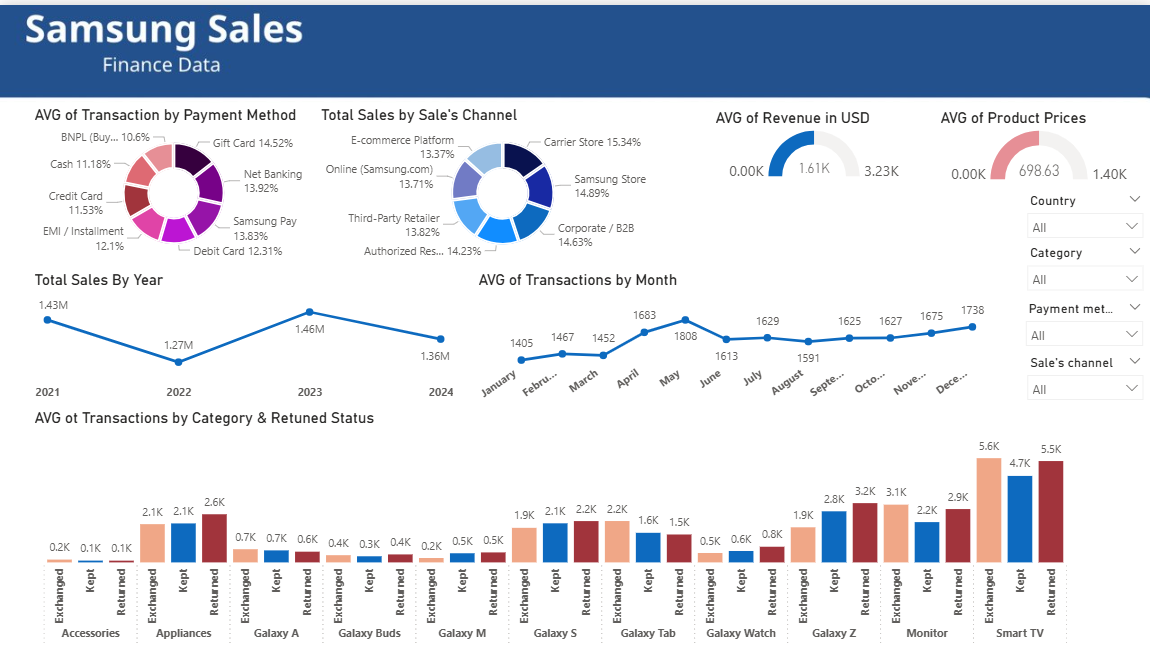

The page's visual inventory and layout, read from the dashboard file:
{"tool":"powerbi","page":{"name":"Finance","canvas":[1280,720],"ordinal":0},"visuals":[{"type":"lineChart","title":"Total Sales By Year","fields":{"Category":["dashboard_samsung.sale_date.Variation.Date Hierarchy.Year"],"Y":["Sum(dashboard_samsung.total_transaction_price)"]},"box":[33.3,295,475,153.3],"z":0},{"type":"lineChart","title":"AVG of Transactions by Month","fields":{"Category":["dashboard_samsung.sale_date.Variation.Date Hierarchy.Month"],"Y":["Avg(dashboard_samsung.total_transaction_price)"]},"box":[526.7,295,576.7,153.3],"z":1000},{"type":"clusteredColumnChart","title":"AVG ot Transactions by Category & Retuned Status","fields":{"Category":["dashboard_samsung.category","dashboard_samsung.return_status"],"Y":["Avg(dashboard_samsung.total_transaction_price)"]},"box":[33.3,448.3,1166.7,271.7],"z":2000},{"type":"slicer","fields":{"Values":["dashboard_samsung.country"]},"box":[1131.7,203.3,148.3,65],"z":3000},{"type":"slicer","fields":{"Values":["dashboard_samsung.category"]},"box":[1131.7,261.7,148.3,66.7],"z":4000},{"type":"donutChart","title":"AVG of Transaction by Payment Method","fields":{"Category":["dashboard_samsung.payment_method"],"Y":["Avg(dashboard_samsung.total_transaction_price)"]},"box":[33.3,111.7,318.3,175],"z":5000},{"type":"donutChart","title":"Total Sales by Sale''s Channel","fields":{"Category":["dashboard_samsung.sales_channel"],"Y":["Sum(dashboard_samsung.total_transaction_price)"]},"box":[351.7,111.7,413.3,175],"z":6000},{"type":"gauge","title":"AVG of Revenue in USD","fields":{"Y":["Avg(dashboard_samsung.revenue_usd)"]},"box":[790,115,228.3,85],"z":7000},{"type":"slicer","fields":{"Values":["dashboard_samsung.payment_method"]},"box":[1130,323.3,150,66.7],"z":8000},{"type":"slicer","fields":{"Values":["dashboard_samsung.sales_channel"]},"box":[1131.7,383.3,148.3,65],"z":9000},{"type":"gauge","title":"AVG of Product Prices","fields":{"Y":["Avg(dashboard_samsung.unit_price_usd)"]},"box":[1040,115,228.3,88.3],"z":9001}]}

Visuals, with their boxes in screenshot pixels (x1, y1, x2, y2), scaled from the page's 1280x720 canvas onto the 1150x653 screenshot:
"Total Sales By Year" lineChart: bbox=[30, 268, 457, 407]
"AVG of Transactions by Month" lineChart: bbox=[473, 268, 991, 407]
"AVG ot Transactions by Category & Retuned Status" clusteredColumnChart: bbox=[30, 407, 1078, 652]
slicer - dashboard_samsung.country: bbox=[1017, 184, 1149, 243]
slicer - dashboard_samsung.category: bbox=[1017, 237, 1149, 298]
"AVG of Transaction by Payment Method" donutChart: bbox=[30, 101, 316, 260]
"Total Sales by Sale''s Channel" donutChart: bbox=[316, 101, 687, 260]
"AVG of Revenue in USD" gauge: bbox=[710, 104, 915, 181]
slicer - dashboard_samsung.payment_method: bbox=[1015, 293, 1149, 354]
slicer - dashboard_samsung.sales_channel: bbox=[1017, 348, 1149, 407]
"AVG of Product Prices" gauge: bbox=[934, 104, 1139, 184]
